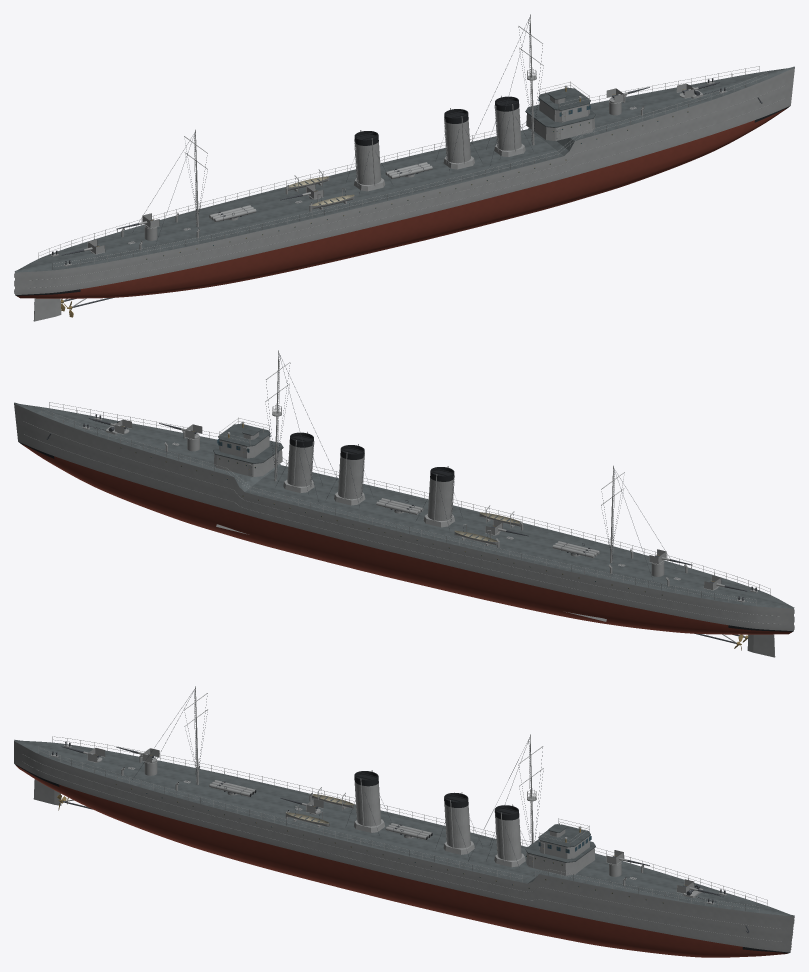
The model's file is chacal.glb.
3 views of the same model, one above another, from view 1: azimuth 30°, elevation 25°; view 2: azimuth 150°, elevation 25°; view 3: azimuth 330°, elevation 25° (orthographic).
Visible parts, largest first — view 1: Chacal class (contre-torpilleur); view 2: Chacal class (contre-torpilleur); view 3: Chacal class (contre-torpilleur).
Part boxes in pixels (x1,y1,x2,y2): Chacal class (contre-torpilleur): [14, 14, 794, 321]; Chacal class (contre-torpilleur): [14, 350, 794, 657]; Chacal class (contre-torpilleur): [14, 686, 794, 957].
Size of the model in its own units: 127 by 29.28 by 11.52.
9 materials, 8 textured.
